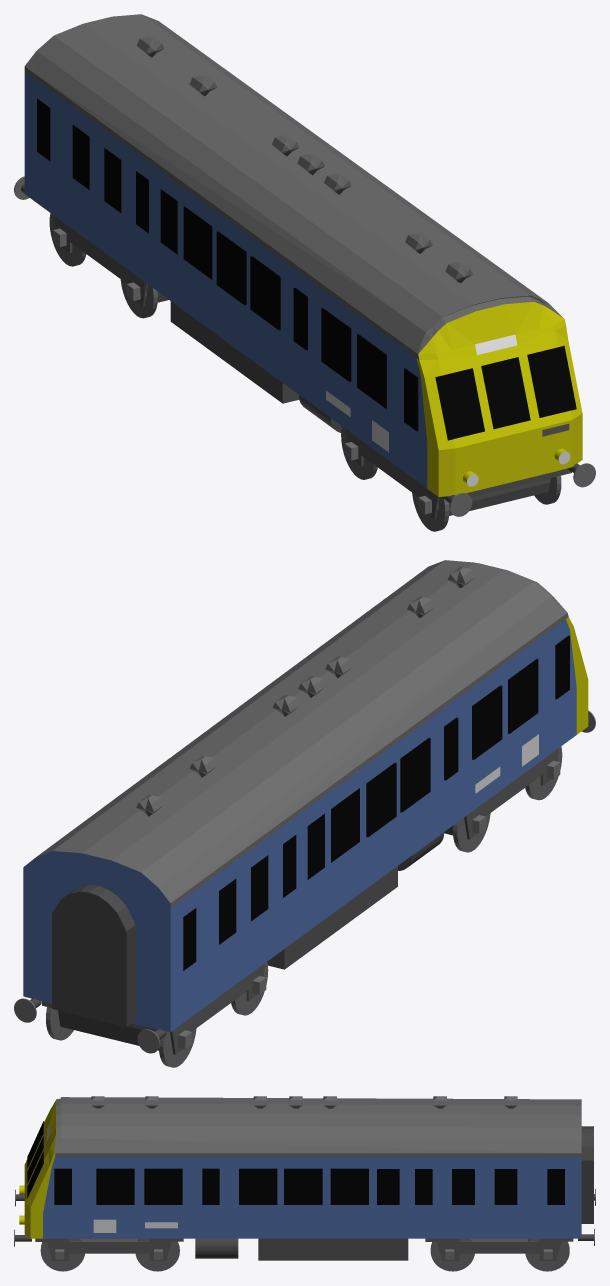
Rendered from BR-101-dmbs-b.dae.
The picture shows the model from 3 angles, top to bottom: view 1: azimuth 30°, elevation 25°; view 2: azimuth 150°, elevation 25°; view 3: azimuth 270°, elevation 25°; orthographic projection. The views are drawn at different scales.
Visible parts, largest first — view 1: BR-cl101-front_rear, Cube_001, Cube_043, Cube_043_001, Cube_061, Cylinder_009; view 2: BR-cl101-front_rear, Cube, Cube_001, Cube_060_001, Cube_043_001, Cube_043, Cylinder_008_001, Cylinder_008; view 3: BR-cl101-front_rear, Cube_001, Cube_043, Cube_043_001, Cube, Cylinder_002, Cylinder_011_001, Cylinder_011, Cylinder_010_001, Cylinder_010, Cube_061_001, Cube_061 (+3 smaller).
Part boxes in pixels (box(x1,y1,x2,y2)): BR-cl101-front_rear: box(24, 14, 582, 497); Cube_001: box(170, 301, 298, 403); Cube_043: box(361, 441, 550, 509); Cube_043_001: box(70, 227, 159, 296); Cube_061: box(427, 482, 549, 519); Cylinder_009: box(412, 492, 449, 531); BR-cl101-front_rear: box(23, 560, 588, 1032); Cube: box(52, 884, 135, 1026); Cube_001: box(267, 866, 397, 969); Cube_060_001: box(42, 1001, 188, 1054); Cube_043_001: box(188, 964, 263, 1031); Cube_043: box(482, 749, 557, 816); Cylinder_008_001: box(159, 1028, 196, 1067); Cylinder_008: box(453, 813, 490, 852); BR-cl101-front_rear: box(24, 1096, 581, 1238); Cube_001: box(258, 1238, 408, 1260); Cube_043: box(49, 1238, 168, 1253); Cube_043_001: box(439, 1238, 557, 1253); Cube: box(581, 1126, 593, 1223); Cylinder_002: box(195, 1238, 238, 1258); Cylinder_011_001: box(525, 1238, 569, 1271); Cylinder_011: box(135, 1238, 179, 1271); Cylinder_010_001: box(430, 1238, 474, 1271); Cylinder_010: box(40, 1238, 84, 1271); Cube_061_001: box(425, 1238, 459, 1260); Cube_061: box(35, 1238, 69, 1260).
Size of the model in its own units: 2.04 by 10.32 by 3.05.
